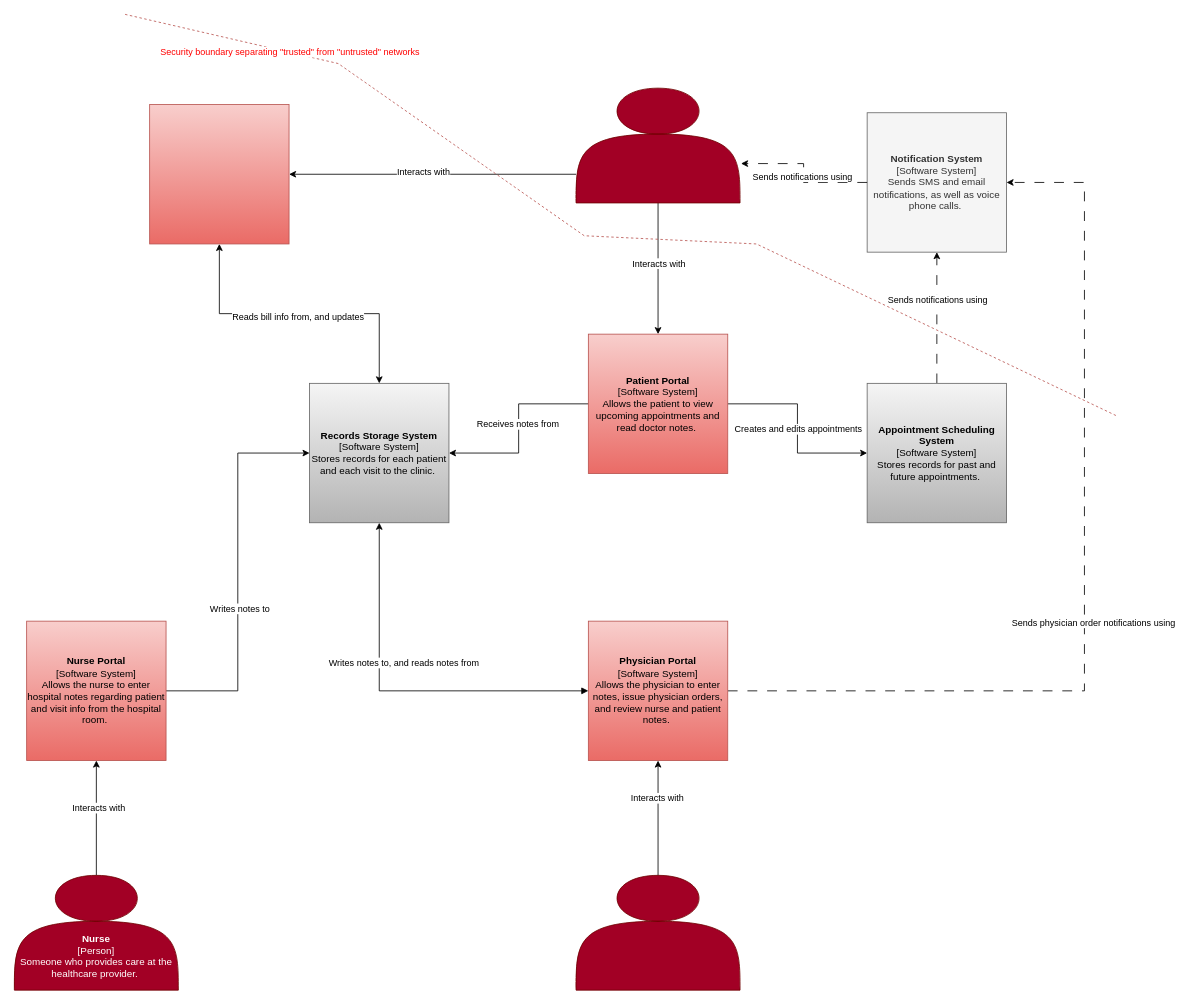
Image size: 1189x1005. Some labels were removed from this diagram. Each missing label, with the centre of its shape:
Patient [Person] Someone who receives care at the healthcare provider.: the point at 657,145
Payment System [Software System] Allows the patient to view and pay bills.: the point at 219,174
Physician [Person] Someone who provides care at the healthcare provider.: the point at 657,932
